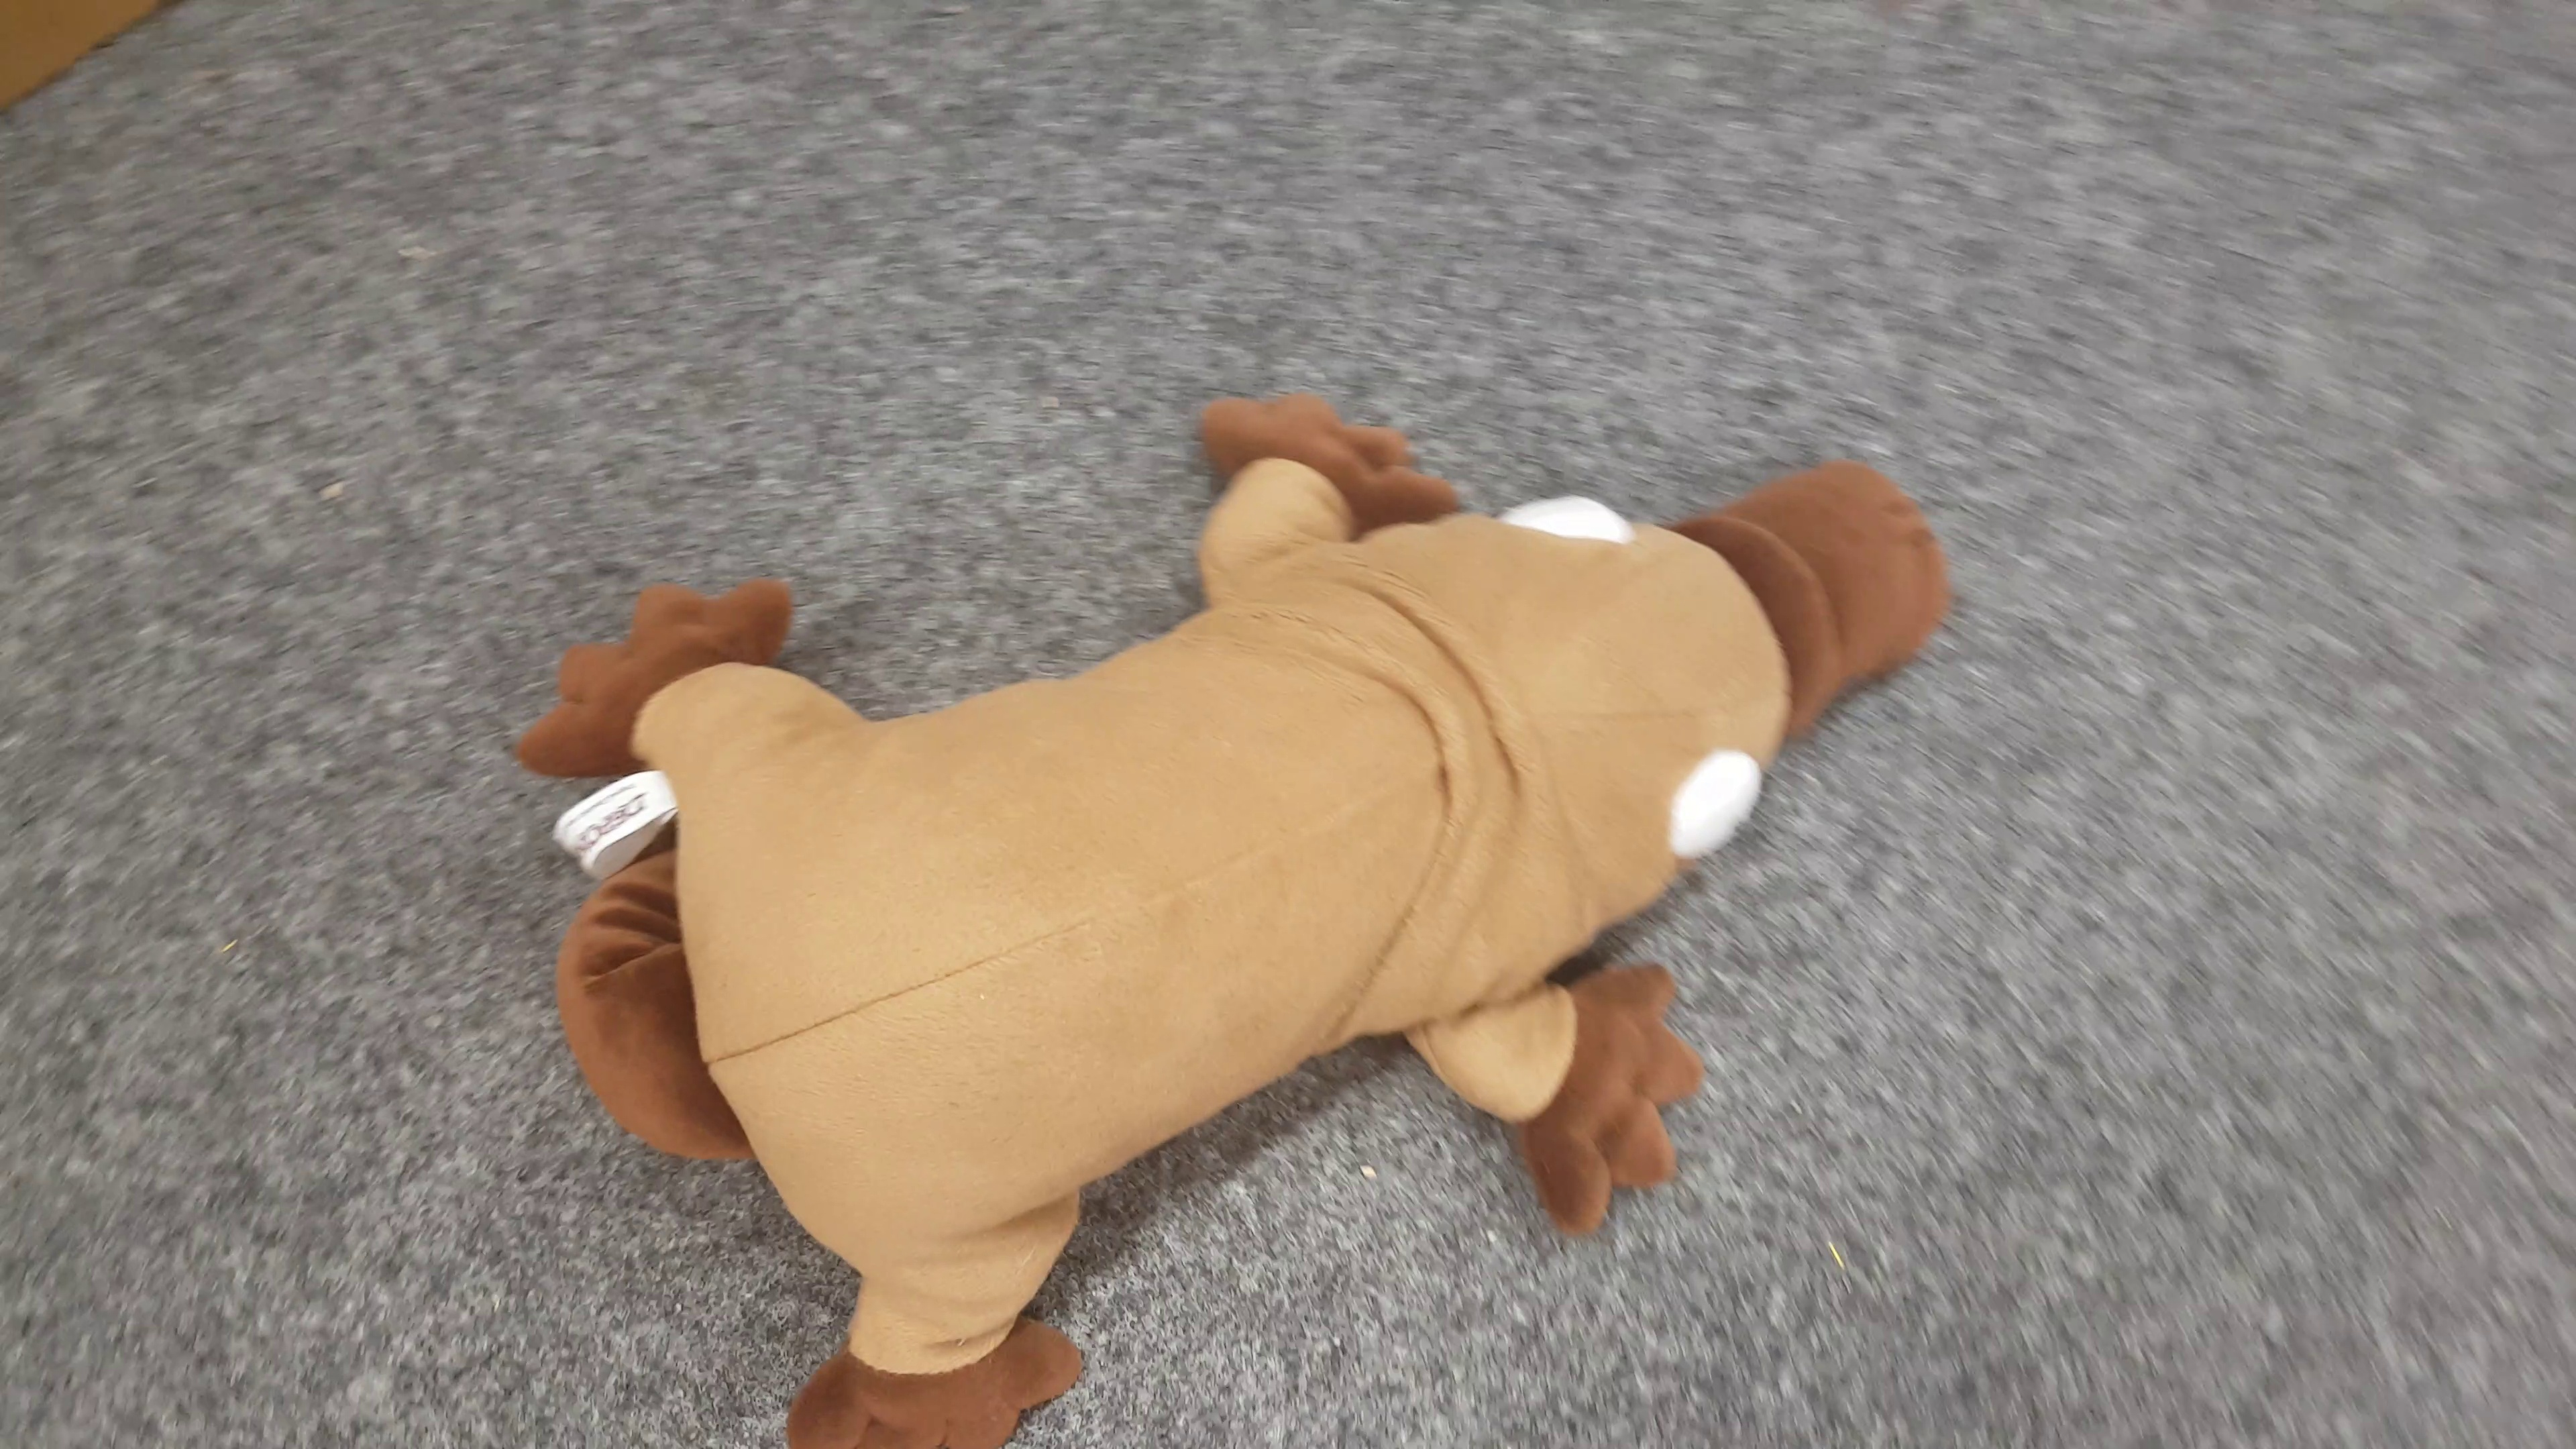grasp: (517, 393, 1957, 1449)
